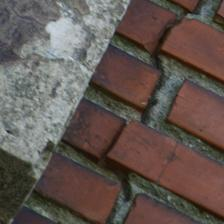Crack: (141, 11, 181, 134)
